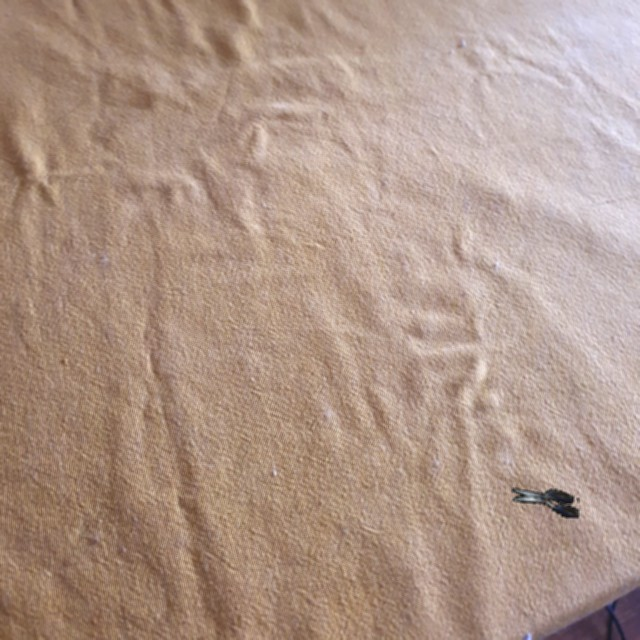scissors: (512, 488, 579, 518)
